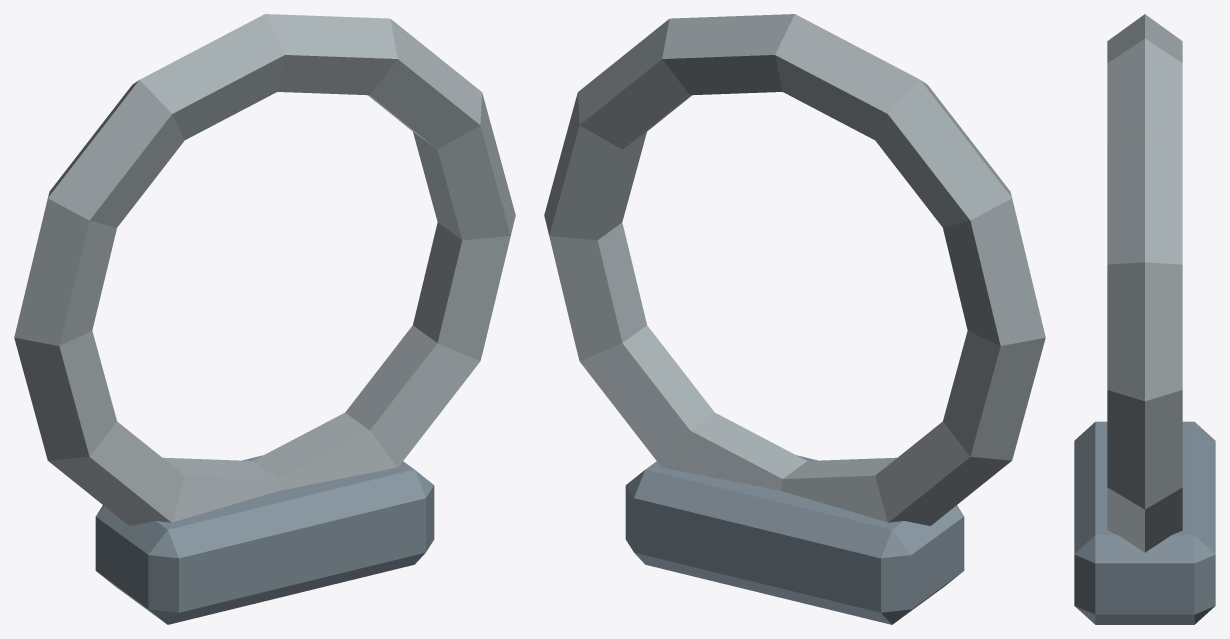
The model's file is Landmark_03_LOD0.fbx.
The picture shows the model from 3 angles, left to right: view 1: azimuth 30°, elevation 25°; view 2: azimuth 150°, elevation 25°; view 3: azimuth 270°, elevation 25°; orthographic projection. The views are drawn at different scales.
Parts seen in each view (by area): view 1: Landmark_03_LOD0; view 2: Landmark_03_LOD0; view 3: Landmark_03_LOD0.
Part boxes in pixels (x1,y1,x2,y2): Landmark_03_LOD0: (14, 14, 515, 624); Landmark_03_LOD0: (544, 14, 1045, 624); Landmark_03_LOD0: (1074, 14, 1215, 624).
Size of the model in its own units: 386 by 413 by 100.
